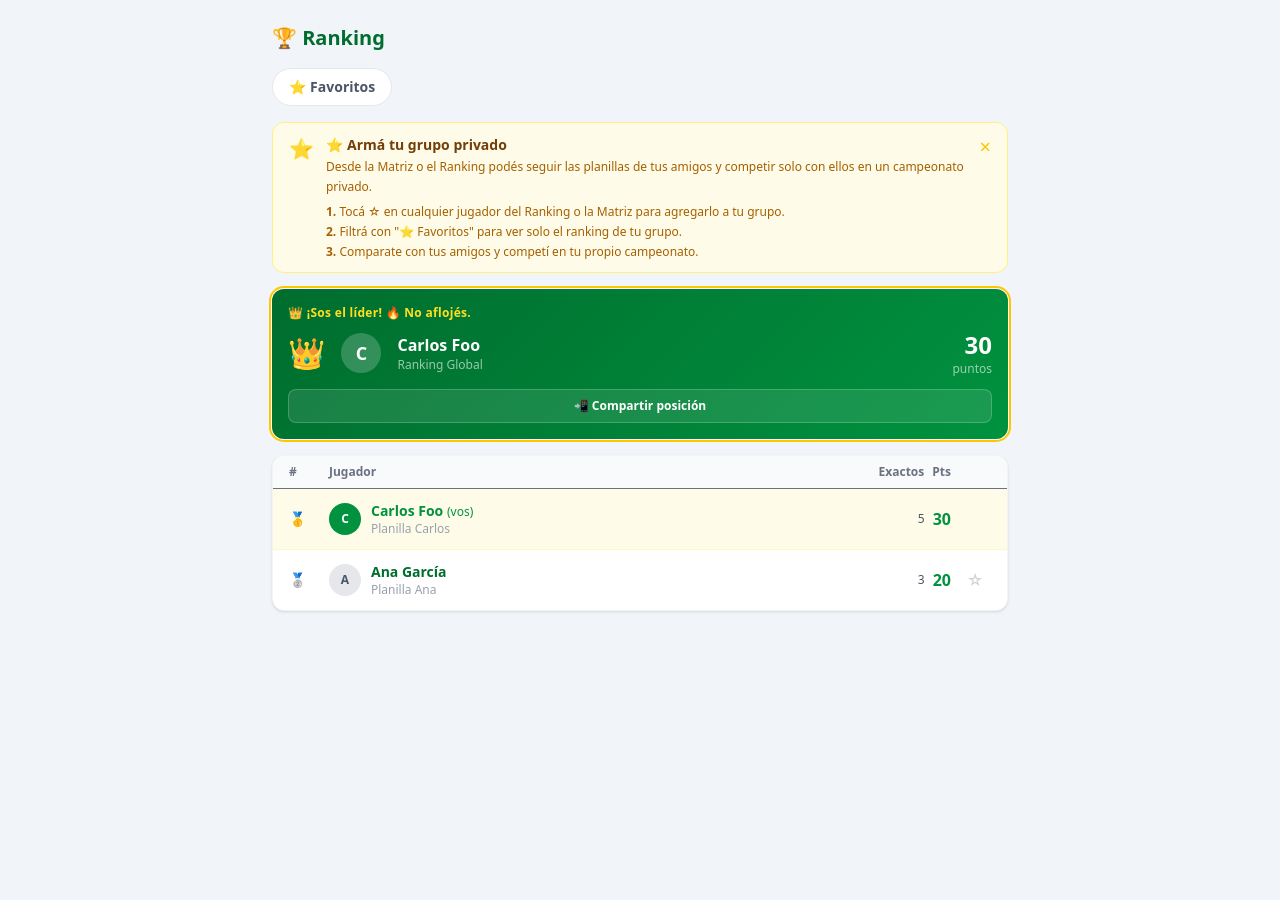
it: Ranking — compartir desde drawer › después de copiar el botón muestra "Copiado"
Step 1. Click the text "Ana García" → (409, 572), box [371,562,446,582]
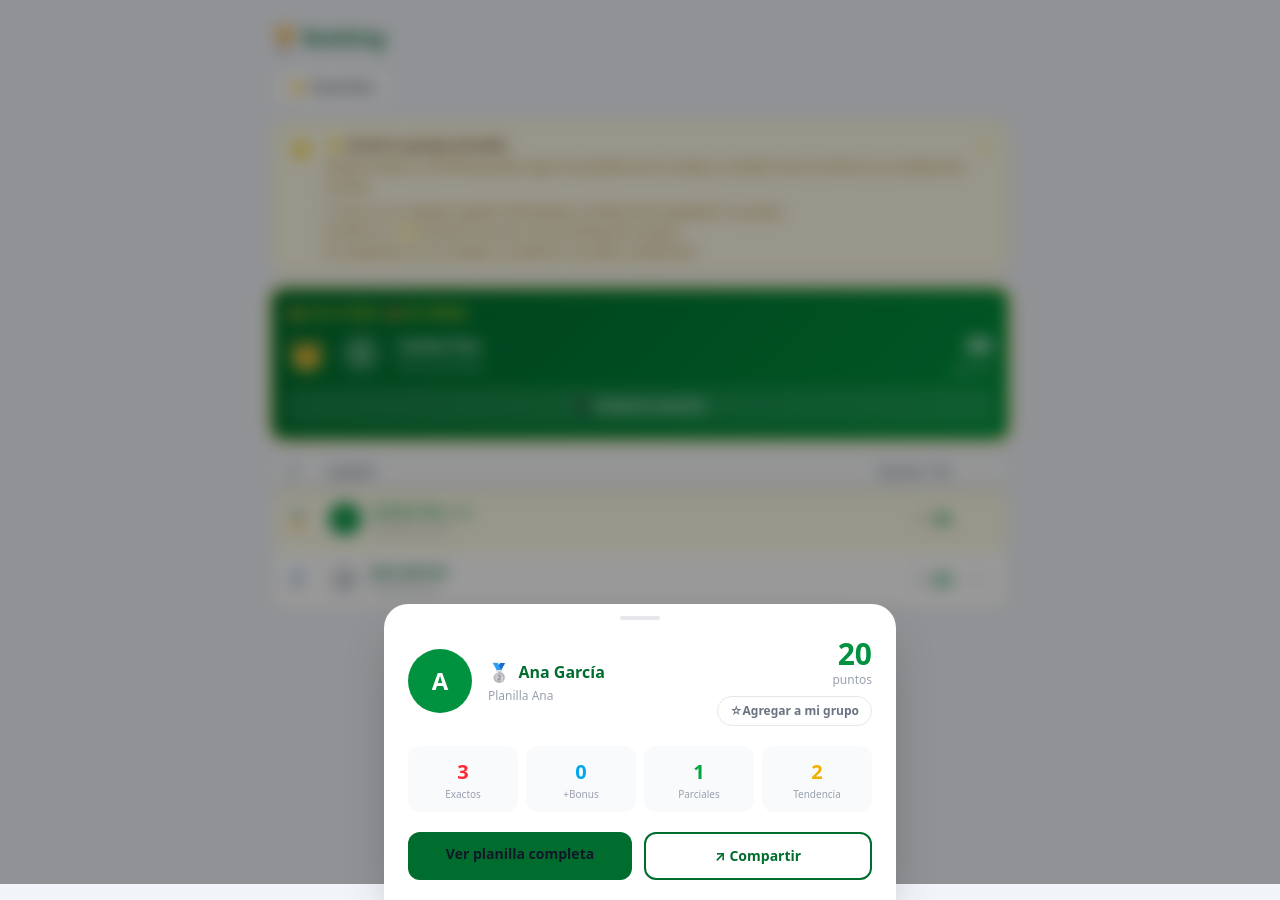
Step 2. Click the button "↗ Compartir" → (758, 856), box [644,832,872,880]
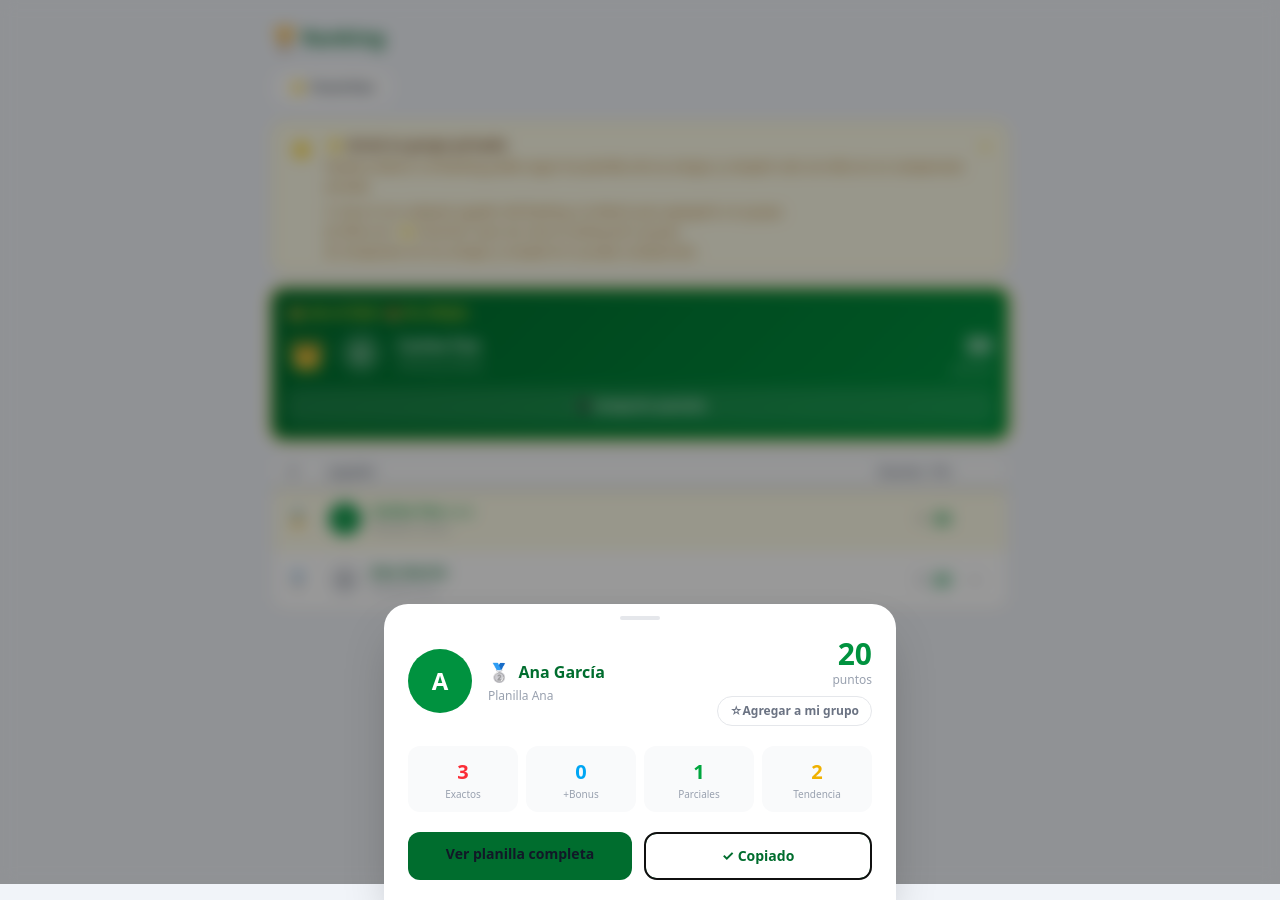
Now the button "✓ Copiado" is shown, box [644,832,872,880]
